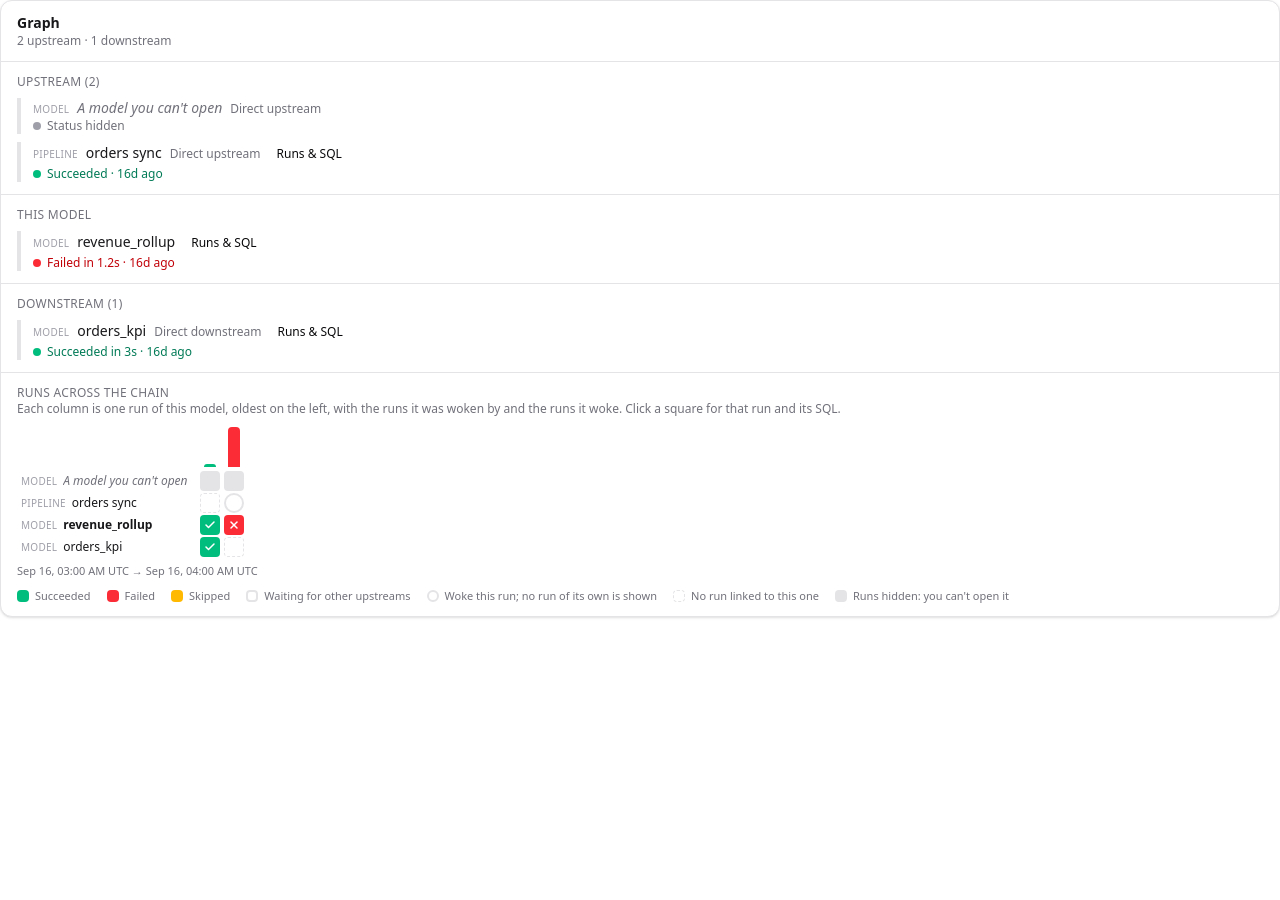
ModelLineageGraph › the run panel and the run grid › lines each run of the model up with the runs it woke, and a square opens that run
The width and height of the screenshot is (1280, 900).
Click the button named "orders_kpi: succeeded in 3s, started Sep 16, 03:00 AM UTC. O" at {"x": 210, "y": 547}, box left=200, top=537, right=220, bottom=557
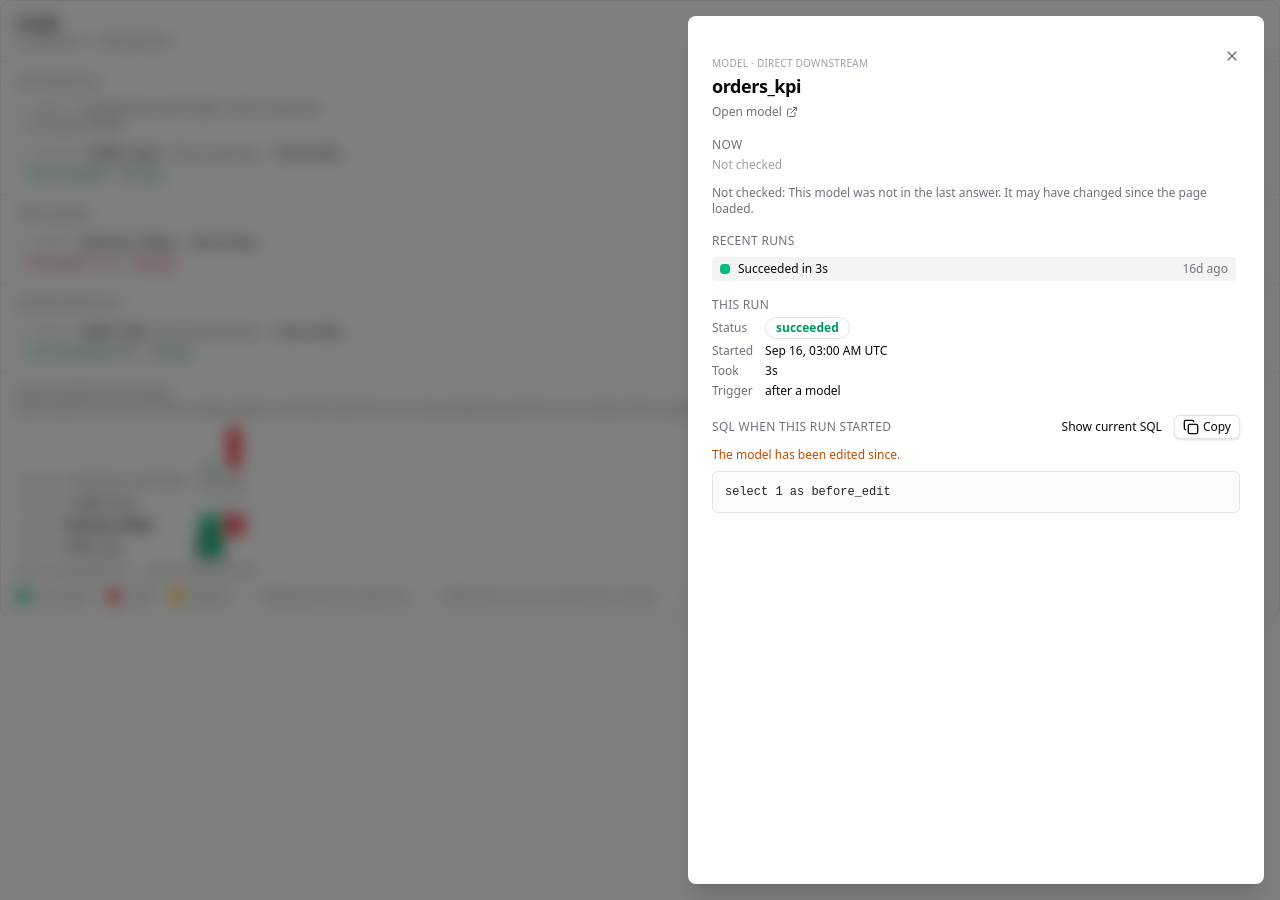
Press Escape
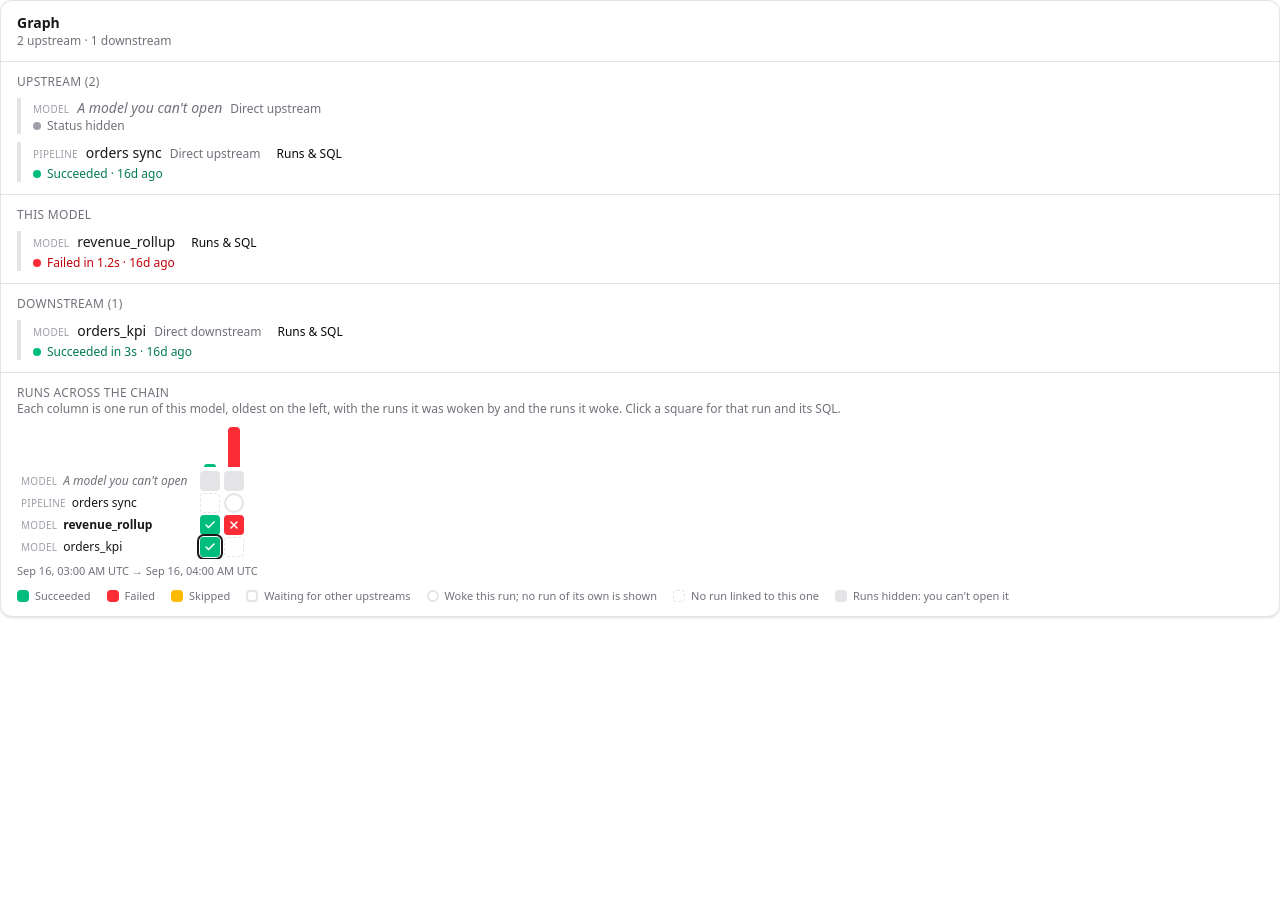
Note: The older run of the model, not its newest.
Click the button named "revenue_rollup: succeeded in 97ms, started Sep 16, 03:00 AM" at {"x": 210, "y": 525}, box left=200, top=515, right=220, bottom=535
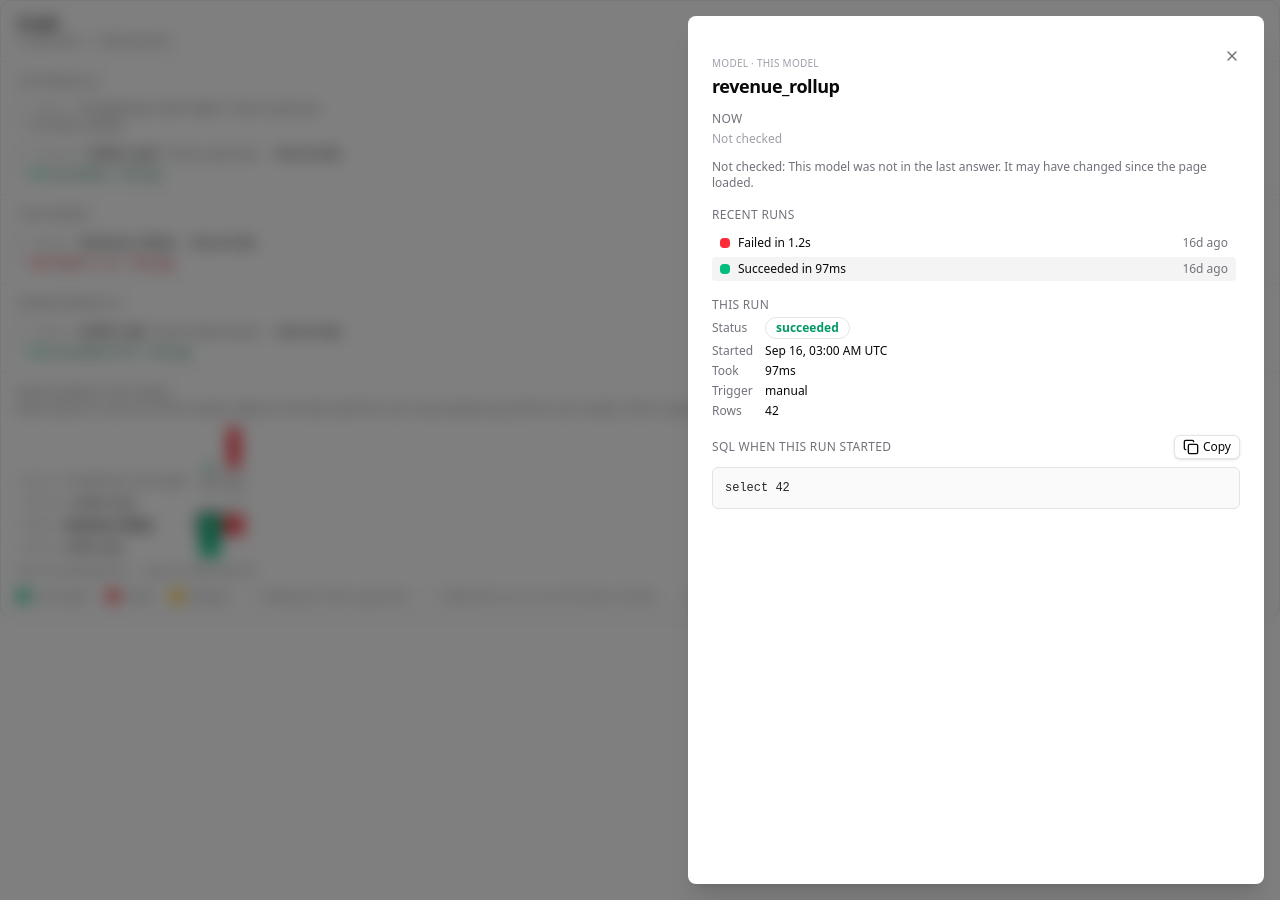
Expected: the text named "SQL when this run started" reads "select 42", left=725, top=481, right=790, bottom=495
